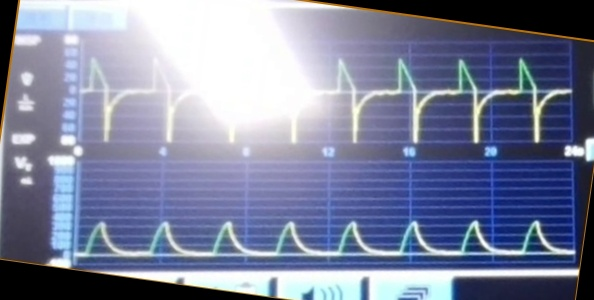Normal Flow: (85, 42, 570, 143)
Normal Volume: (79, 187, 572, 266)
